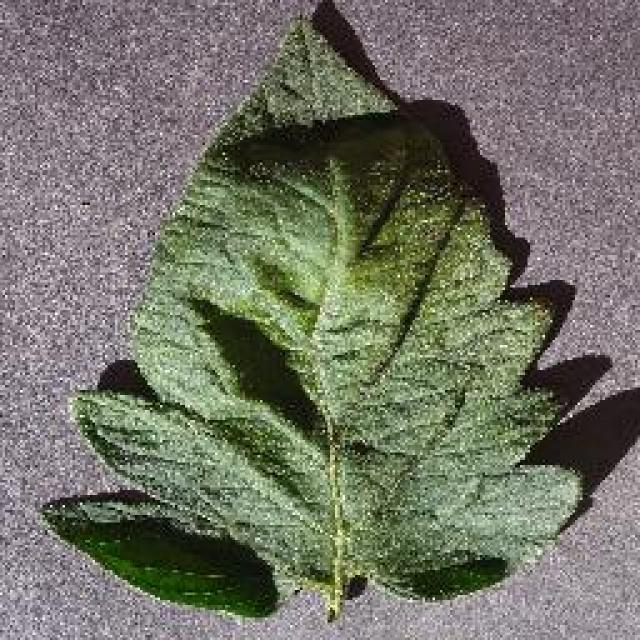Tomato___healthy: (33, 12, 586, 630)
